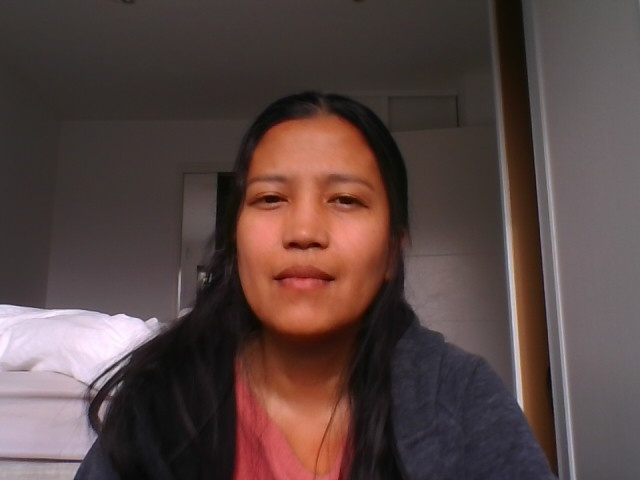face: (234, 93, 391, 336)
